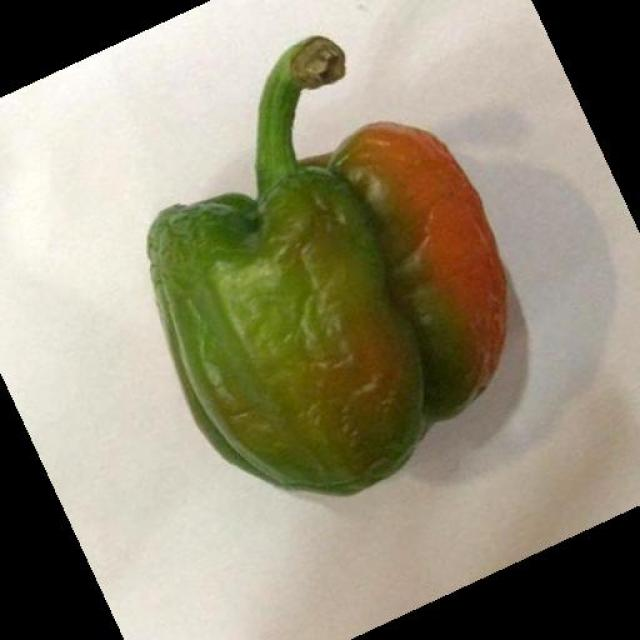Stale_Capsicum: (130, 56, 528, 528)
